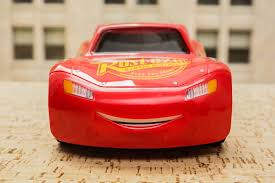mcqueen: (46, 22, 235, 150)
